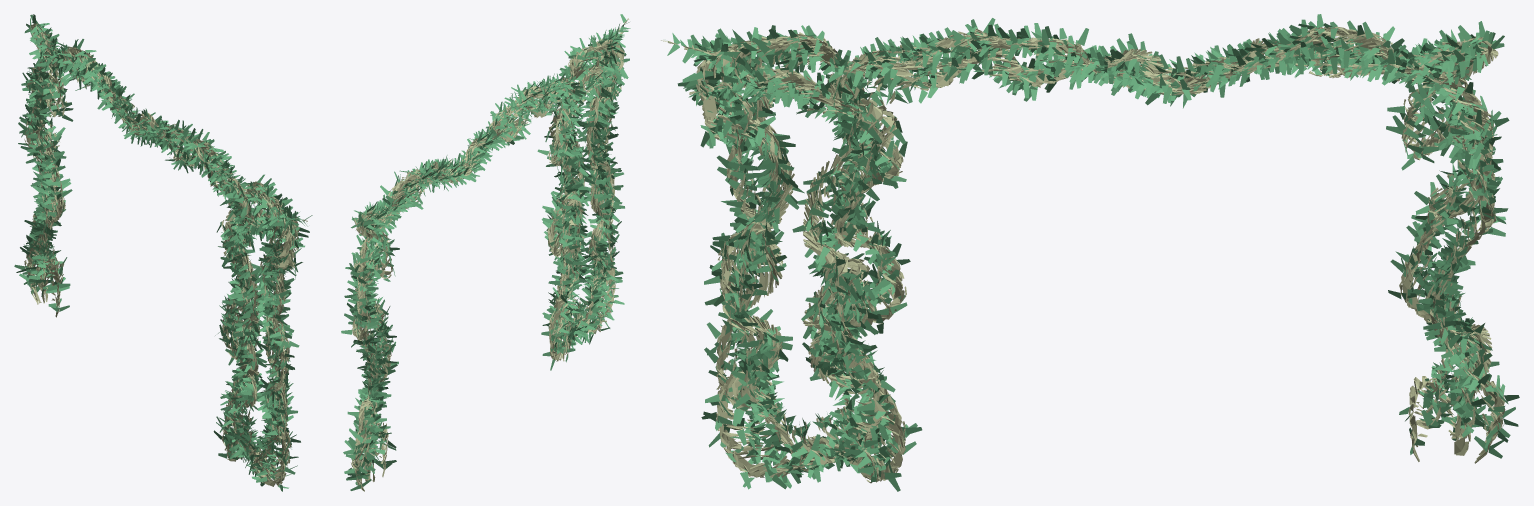
File: Ivy.fbx
3 renders of one model, left to right at view 1: azimuth 30°, elevation 25°; view 2: azimuth 150°, elevation 25°; view 3: azimuth 270°, elevation 25°, orthographic. The views are drawn at different scales.
Parts seen in each view (by area): view 1: vineSpecular4Leaf, vineSpecular4Main; view 2: vineSpecular4Leaf, vineSpecular4Main; view 3: vineSpecular4Leaf, vineSpecular4Main.
Part boxes in pixels (<box>): vineSpecular4Leaf: <box>14,14,312,491</box>; vineSpecular4Main: <box>24,23,307,486</box>; vineSpecular4Leaf: <box>341,14,630,490</box>; vineSpecular4Main: <box>351,18,628,491</box>; vineSpecular4Leaf: <box>667,14,1519,491</box>; vineSpecular4Main: <box>661,26,1505,483</box>.
Size of the model in its own units: 1.37 by 11.09 by 18.34.
